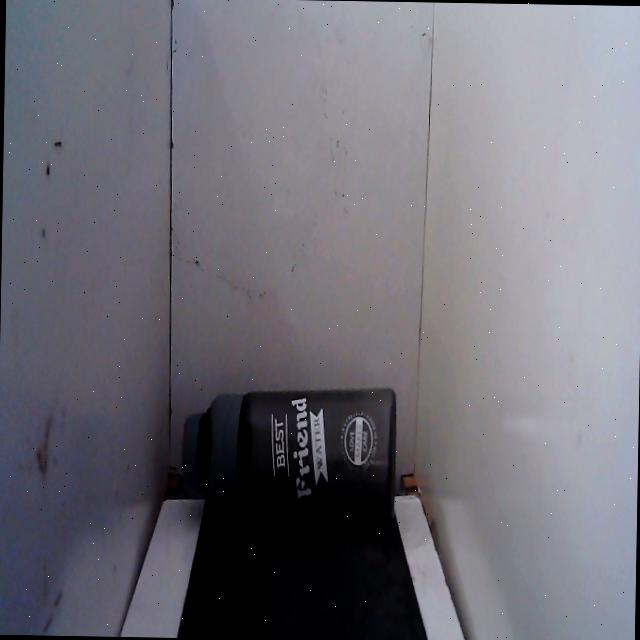plastico: (170, 371, 404, 538)
